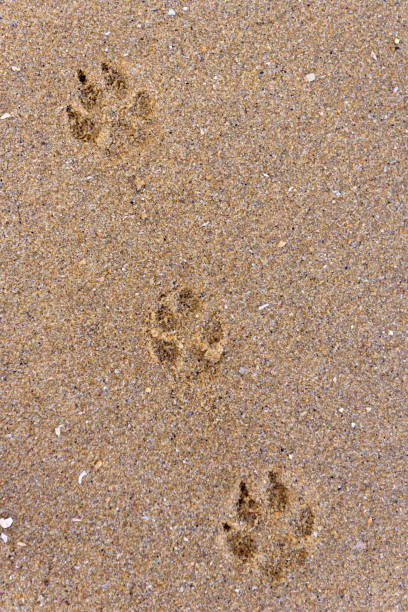animal_foot_print: (219, 470, 314, 582), (66, 61, 159, 161), (146, 287, 225, 380)
